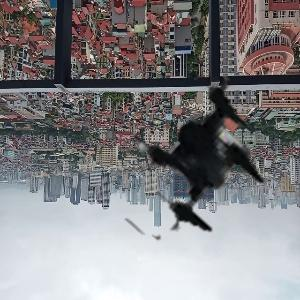drone: (76, 32, 300, 256)
